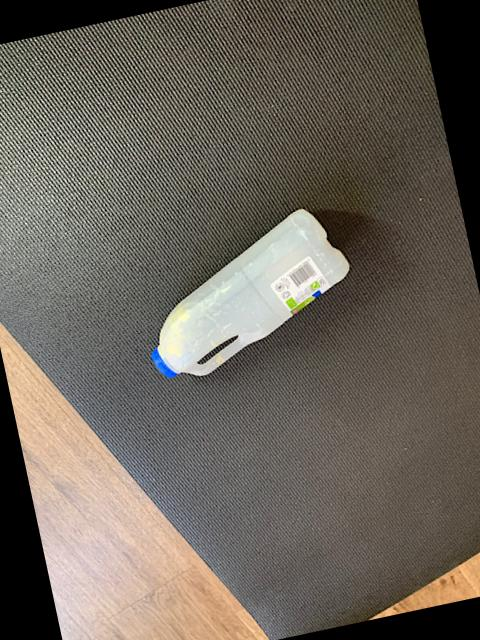plastic: (150, 208, 347, 376)
